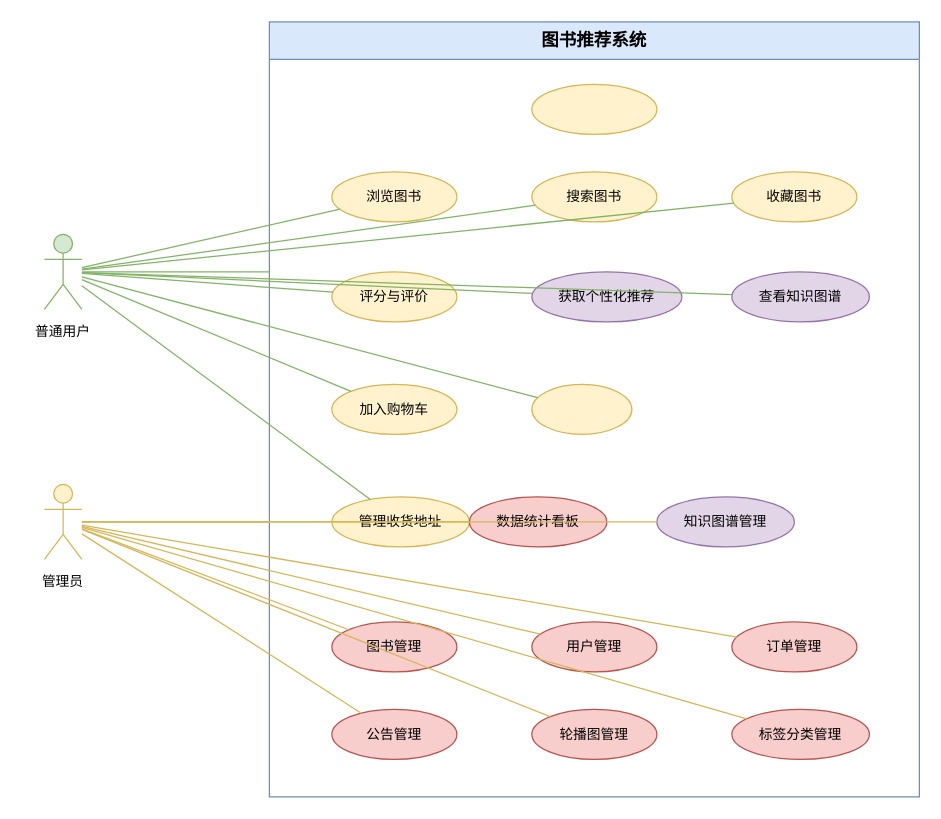
Image size: 941x819. Some labels were removed from this diagram. The box of each missing label's shape, as (x1, y1, x2, y2) in pixels:
下订单: (531, 383, 632, 434)
注册/登录: (531, 83, 657, 134)
